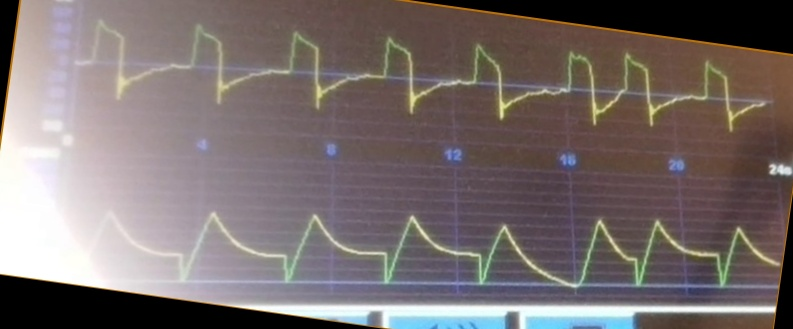Flow: (80, 20, 739, 141)
Leakage Volume: (95, 208, 775, 294)
